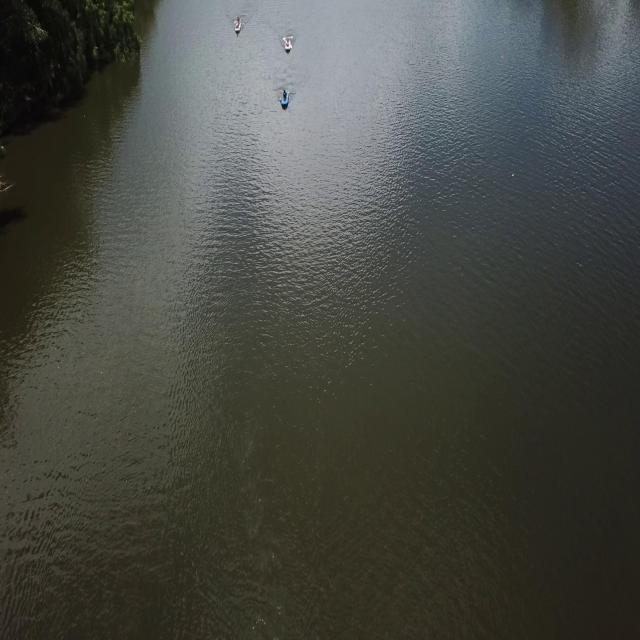kayak: (280, 86, 292, 112), (283, 35, 293, 55), (234, 20, 242, 35)
